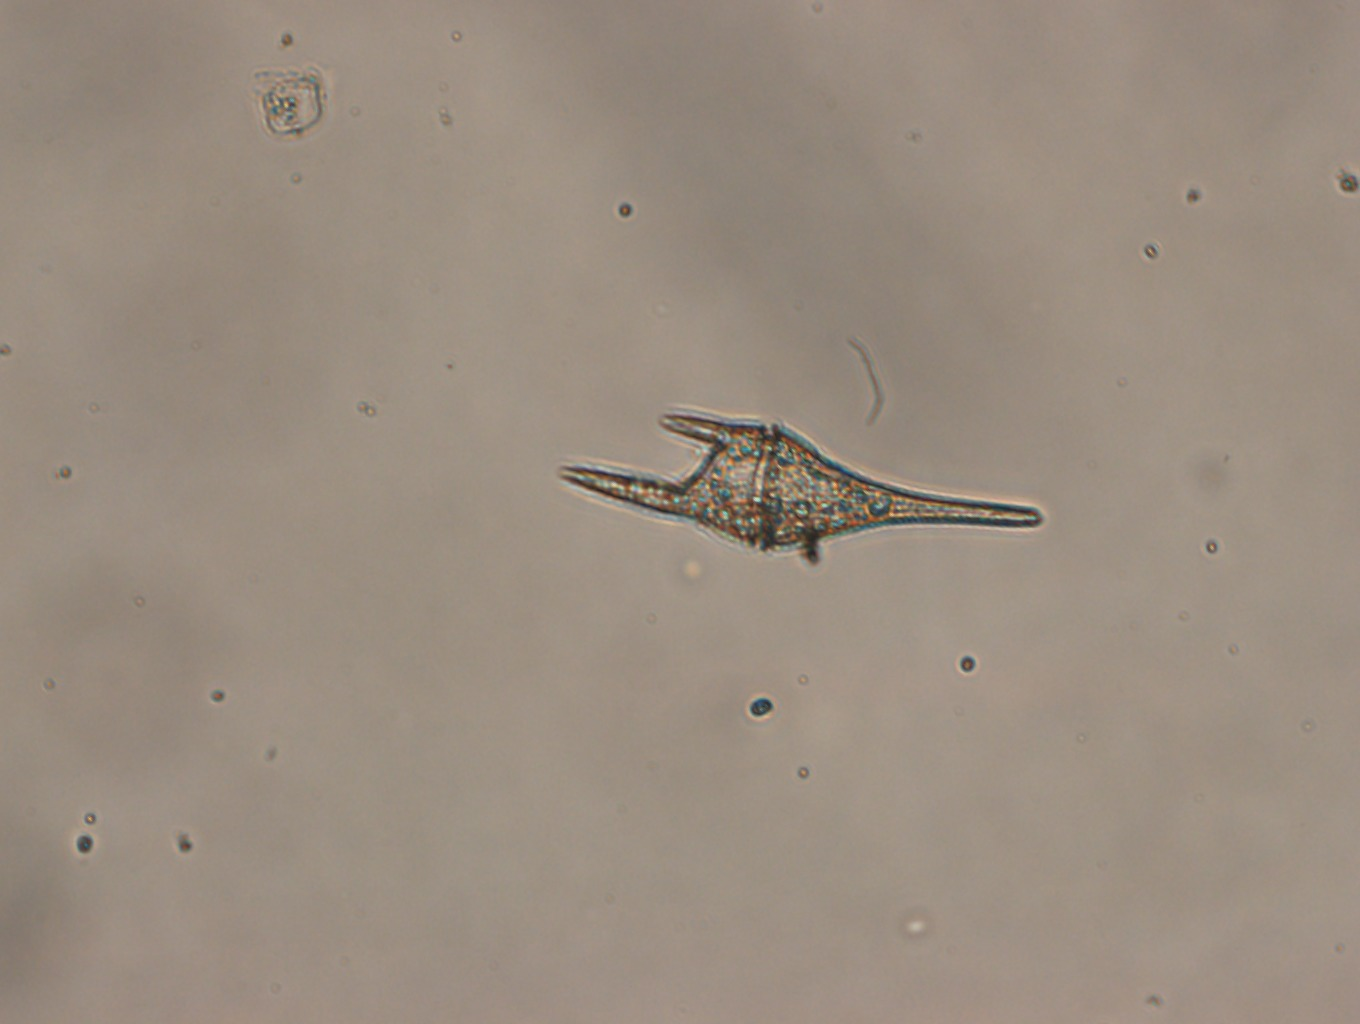ceratium furca: (557, 408, 1043, 552)
